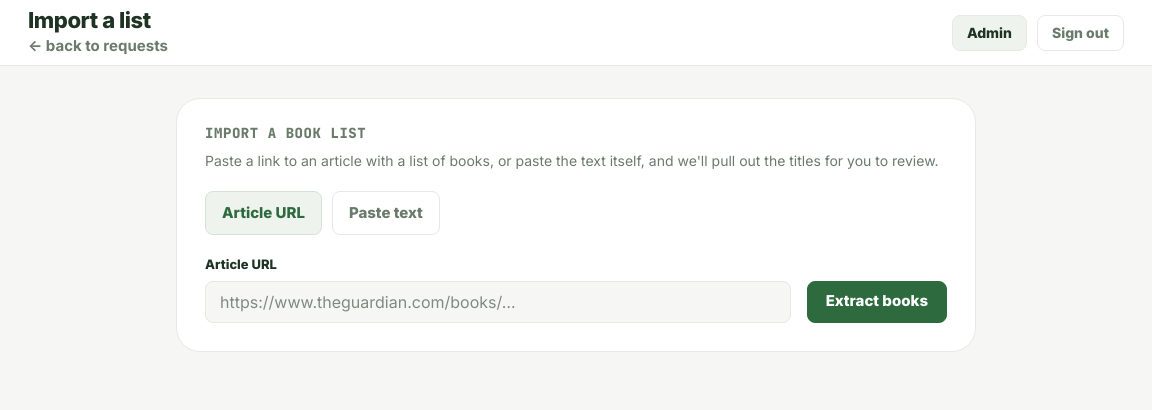
Test case: ImportRoute — input stage › does not offer the paste tab for a configuration error
Type "https://example.com/list" into the field labelled "Article URL" at {"x": 498, "y": 302}, box [205,280,791,322]
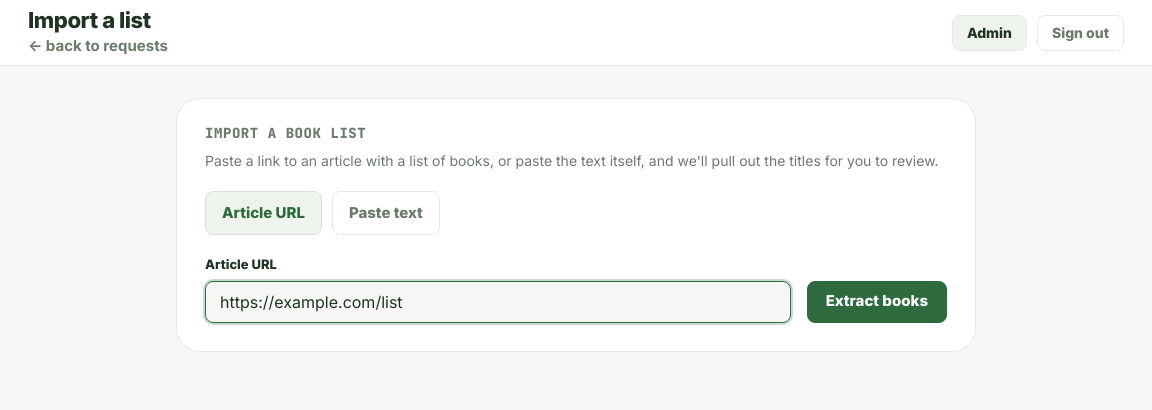
Click the button "Extract books" at {"x": 877, "y": 302}, box [807,280,947,322]
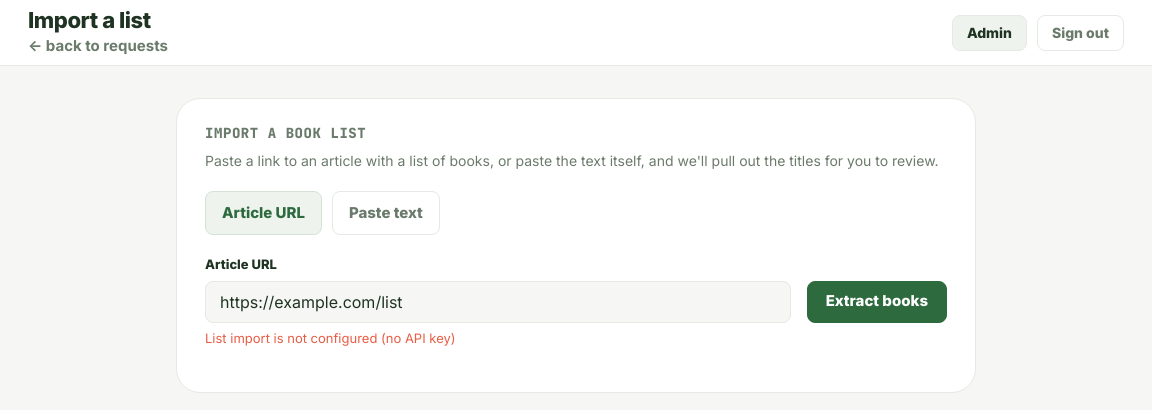
Check: the message shows "not configured", box [205,330,456,346]
